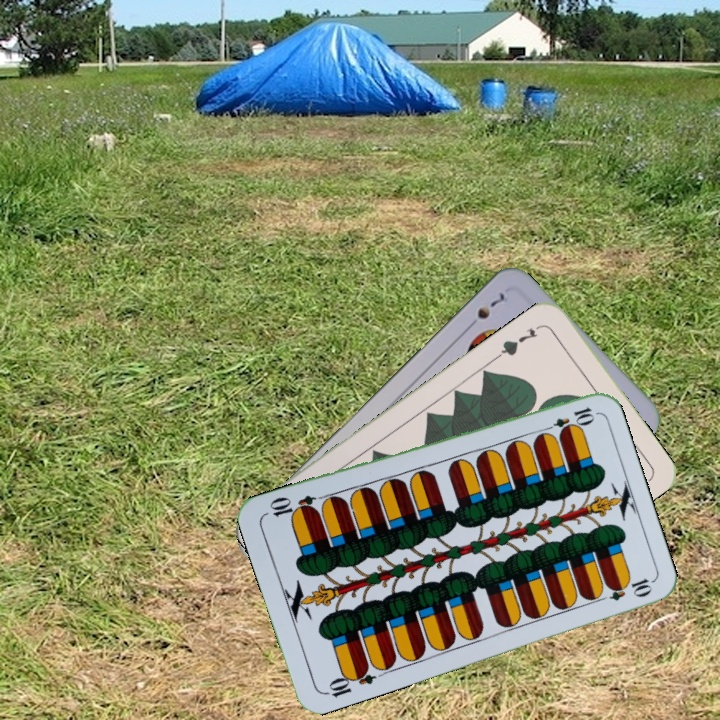E10: (320, 662, 378, 700), (539, 403, 597, 436)
G7: (494, 320, 546, 360)
S7: (463, 289, 508, 332)
